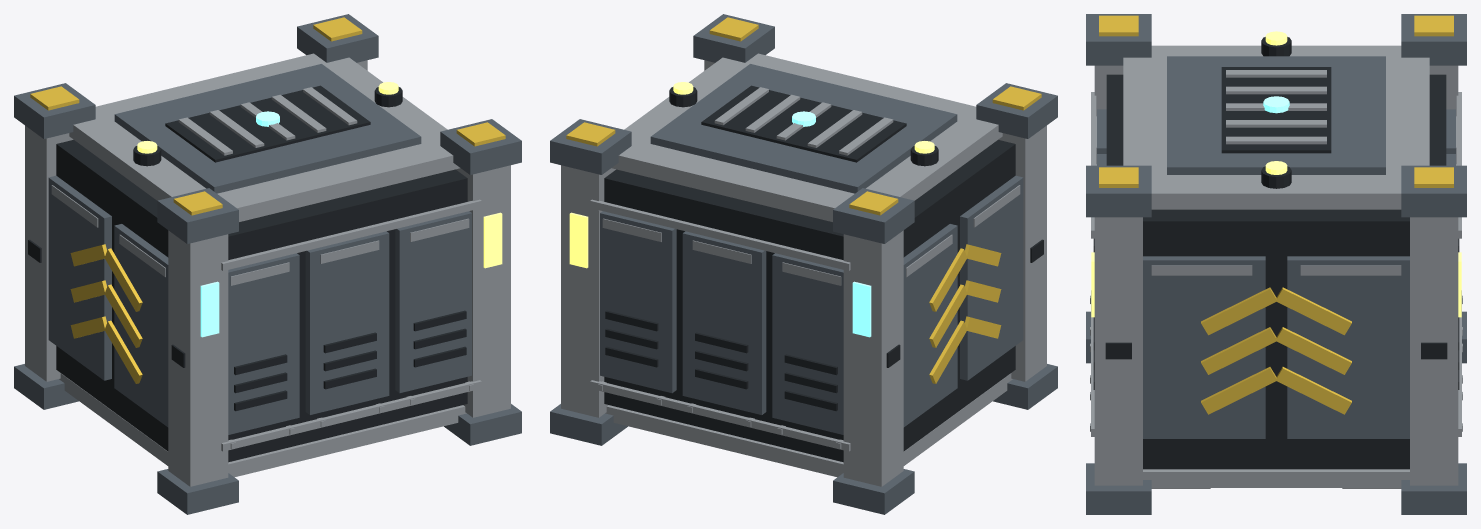
Rendered from item_supply_crate.glb.
3 renders of one model, left to right at view 1: azimuth 30°, elevation 25°; view 2: azimuth 150°, elevation 25°; view 3: azimuth 270°, elevation 25°, orthographic. The views are drawn at different scales.
Visible parts, largest first — view 1: crate_Armor, crate_Steel, crate_Dark, crate_Hazard, crate_Amber, crate_Cyan; view 2: crate_Armor, crate_Steel, crate_Dark, crate_Hazard, crate_Amber, crate_Cyan; view 3: crate_Armor, crate_Steel, crate_Dark, crate_Hazard, crate_Amber.
Part boxes in pixels (left/top/right/bottom): crate_Armor: left=14, top=14, right=521, bottom=514; crate_Steel: left=25, top=53, right=510, bottom=486; crate_Dark: left=28, top=85, right=467, bottom=462; crate_Hazard: left=30, top=17, right=505, bottom=383; crate_Amber: left=137, top=82, right=502, bottom=268; crate_Cyan: left=200, top=111, right=279, bottom=337; crate_Armor: left=550, top=14, right=1057, bottom=514; crate_Steel: left=561, top=53, right=1046, bottom=486; crate_Dark: left=604, top=85, right=1043, bottom=462; crate_Hazard: left=566, top=17, right=1041, bottom=383; crate_Amber: left=569, top=82, right=934, bottom=268; crate_Cyan: left=792, top=111, right=871, bottom=337; crate_Armor: left=1086, top=14, right=1466, bottom=514; crate_Steel: left=1090, top=45, right=1462, bottom=487; crate_Dark: left=1093, top=37, right=1459, bottom=488; crate_Hazard: left=1099, top=15, right=1453, bottom=414; crate_Amber: left=1091, top=31, right=1461, bottom=317.
Size of the model in its own units: 1.94 by 1.64 by 1.74.
